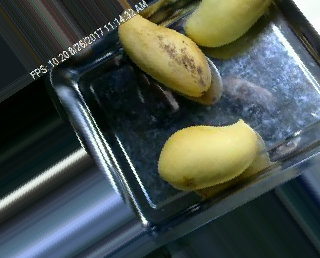Mango: (118, 11, 212, 96), (158, 119, 257, 188), (185, 0, 274, 47)
